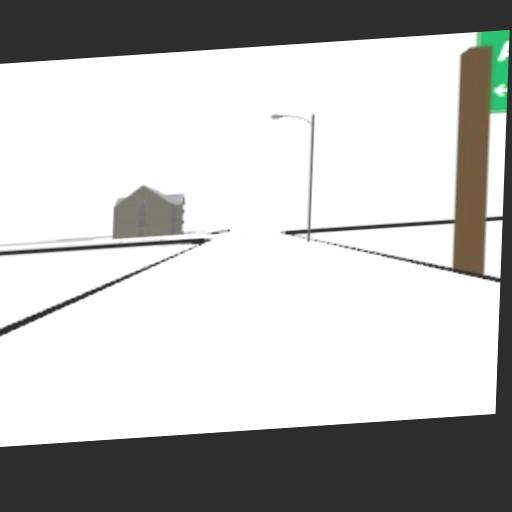A: (496, 36, 509, 62)
Left: (493, 81, 508, 98)
